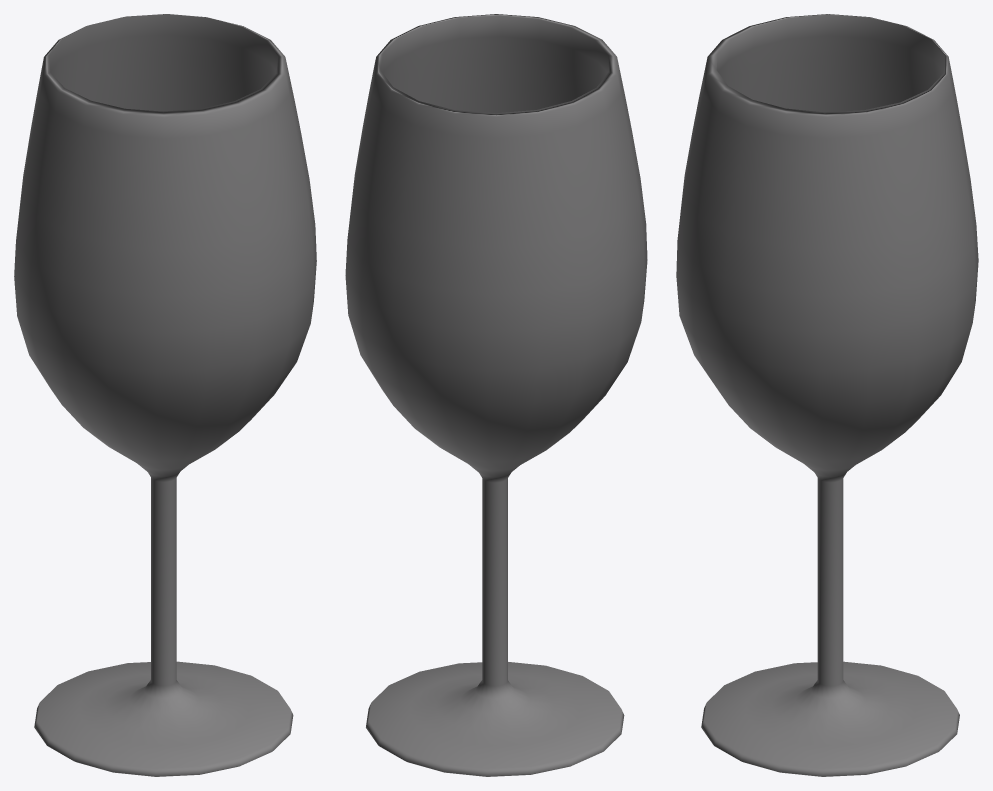
The picture shows the model from 3 angles, left to right: view 1: azimuth 30°, elevation 25°; view 2: azimuth 150°, elevation 25°; view 3: azimuth 270°, elevation 25°; orthographic projection.
Parts seen in each view (by area): view 1: WineGlass1; view 2: WineGlass1; view 3: WineGlass1.
Part boxes in pixels (box(x1,y1,x2,y2)): WineGlass1: box(14, 14, 316, 776); WineGlass1: box(345, 14, 647, 776); WineGlass1: box(676, 14, 978, 776).
Size of the model in its own units: 0.0832 by 0.1993 by 0.0828.
Materials: 1 (1 with a texture image).
